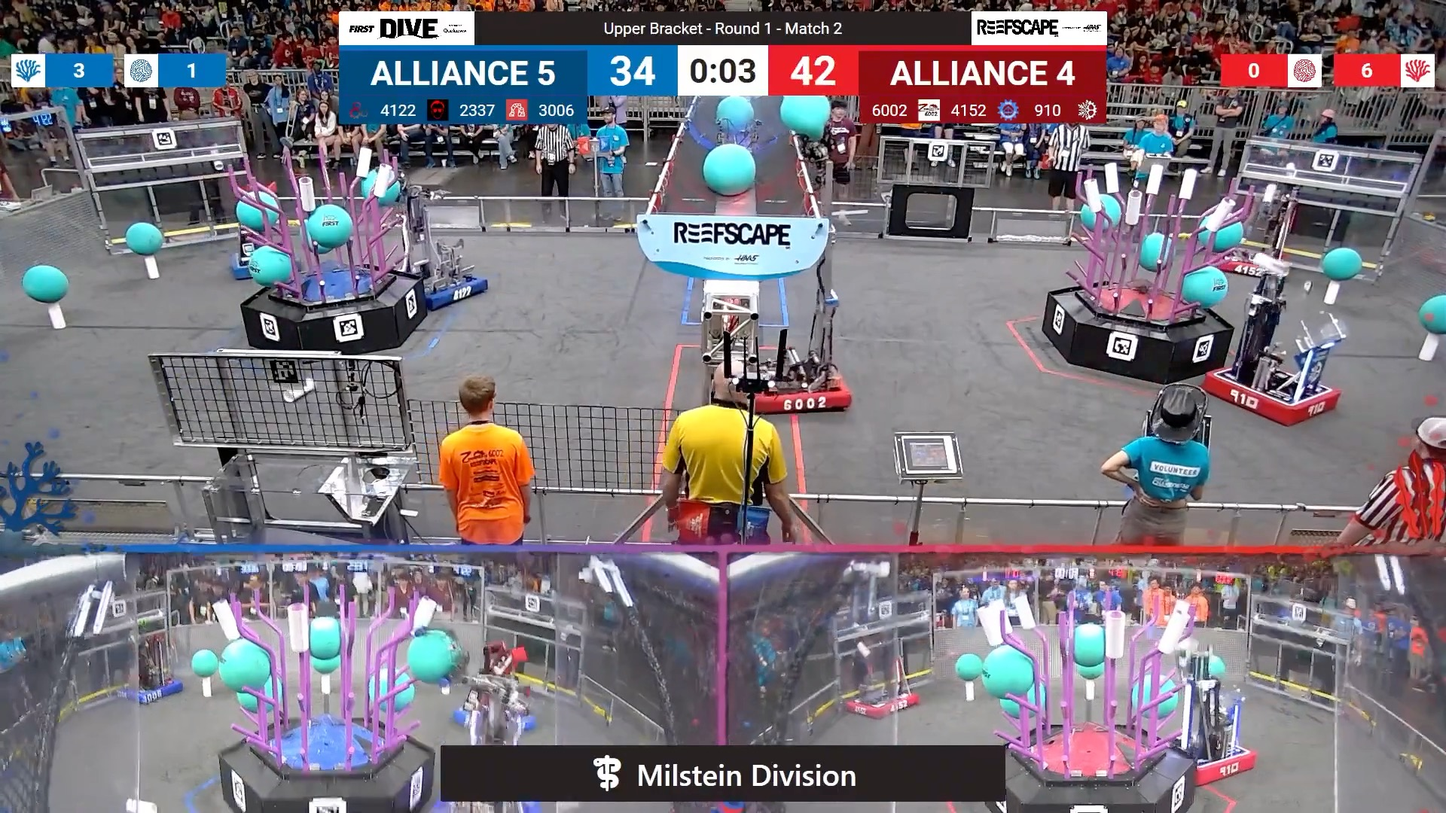bumpers: (1195, 368, 1347, 429), (749, 363, 858, 416), (395, 261, 496, 312), (1161, 739, 1261, 787), (447, 702, 546, 741), (843, 687, 923, 717), (114, 677, 188, 707)
